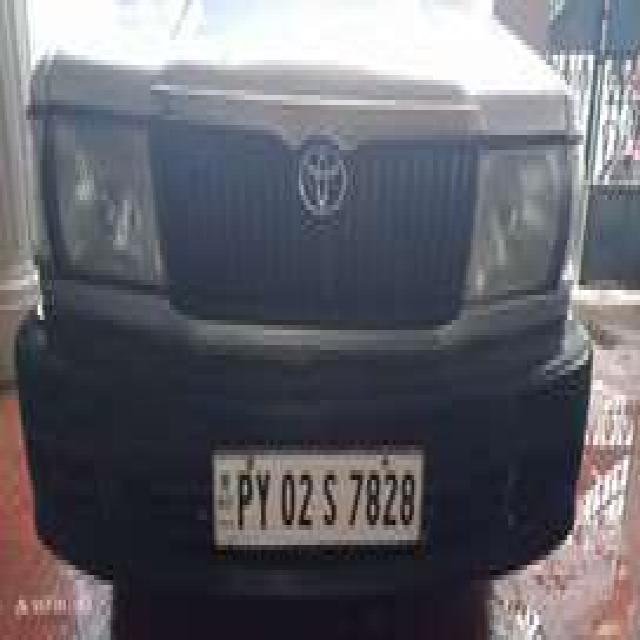Plate: (210, 441, 420, 541)
